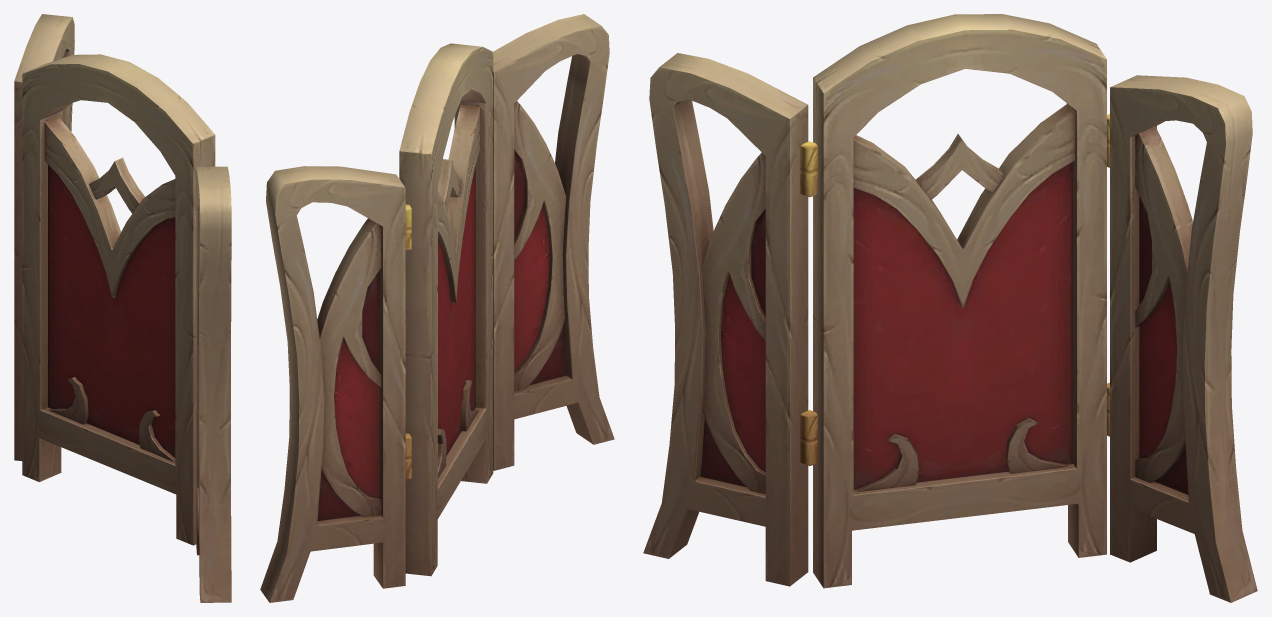
The picture shows the model from 3 angles, left to right: view 1: azimuth 30°, elevation 25°; view 2: azimuth 150°, elevation 25°; view 3: azimuth 270°, elevation 25°; orthographic projection. The views are drawn at different scales.
Bounding box in the file's own units: 1.16 × 4.49 × 4.62.
Materials: 1 (1 with a texture image).
